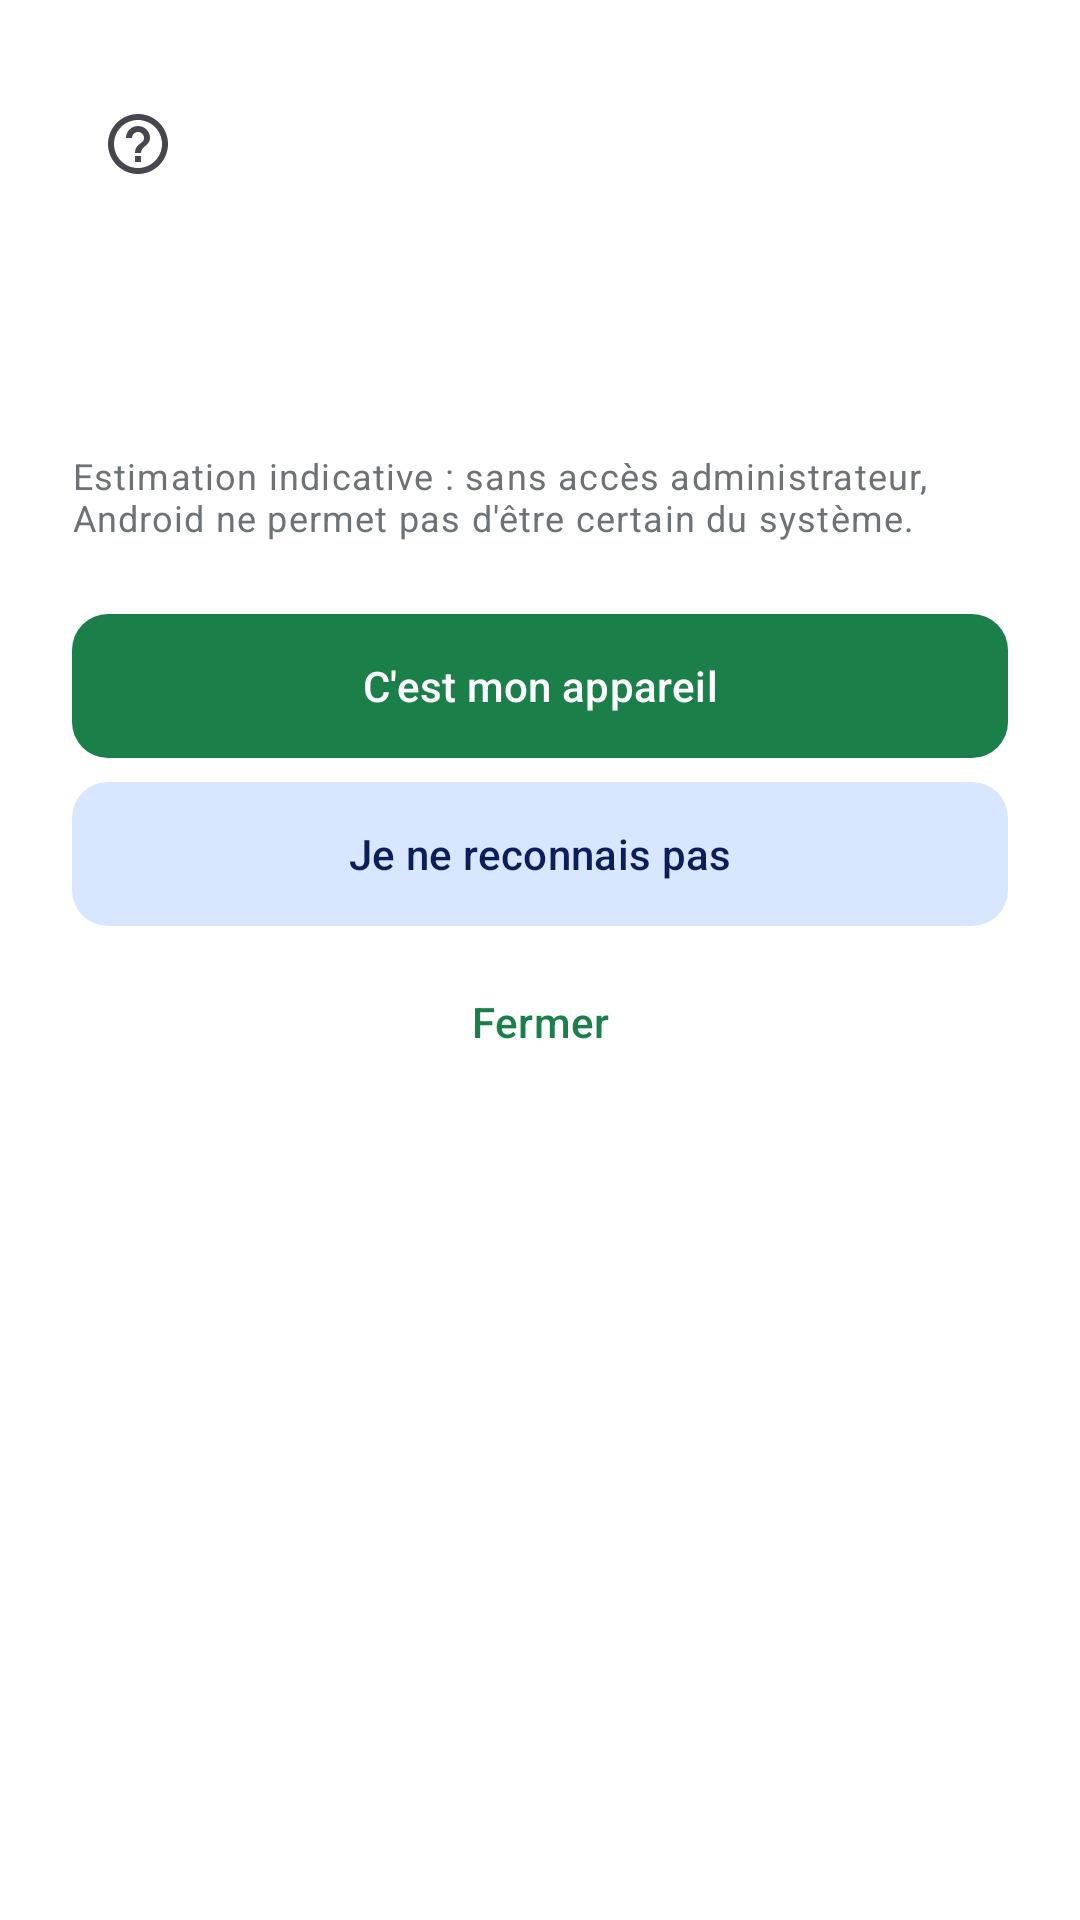

Named icons in this screenshot (1080px x 1920px) and their bounding boxes, (x1, y1, x2, y2):
os unknown: (108, 114, 168, 174)
